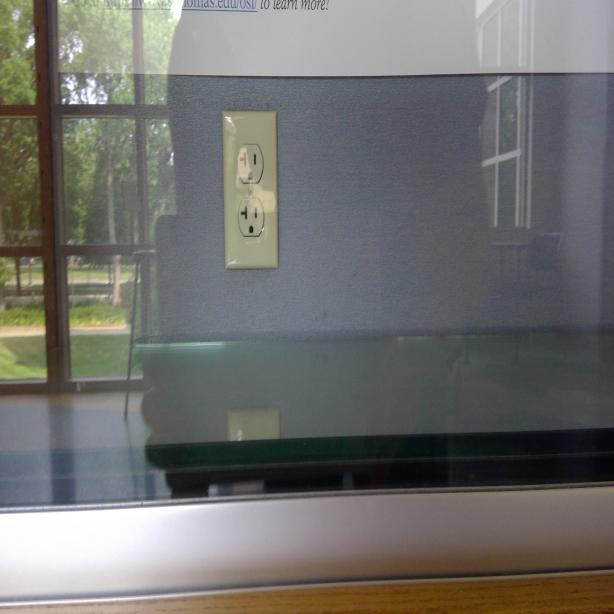typeb: (237, 144, 263, 184), (238, 196, 264, 236)
